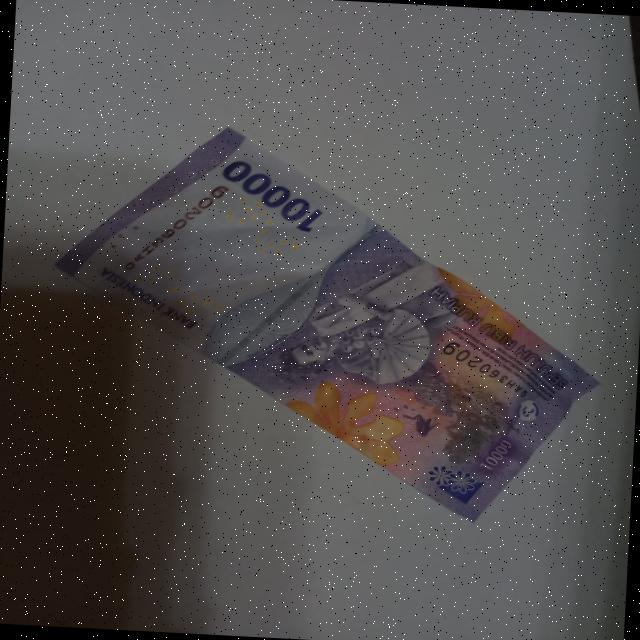10K: (27, 104, 616, 541)
